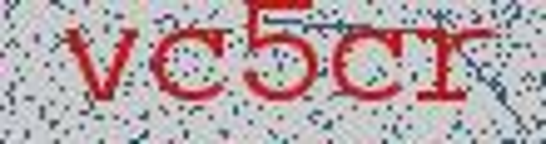5: (237, 1, 323, 105)
c: (149, 24, 234, 107), (329, 20, 408, 104)
r: (411, 22, 502, 109)
v: (55, 22, 142, 112)
